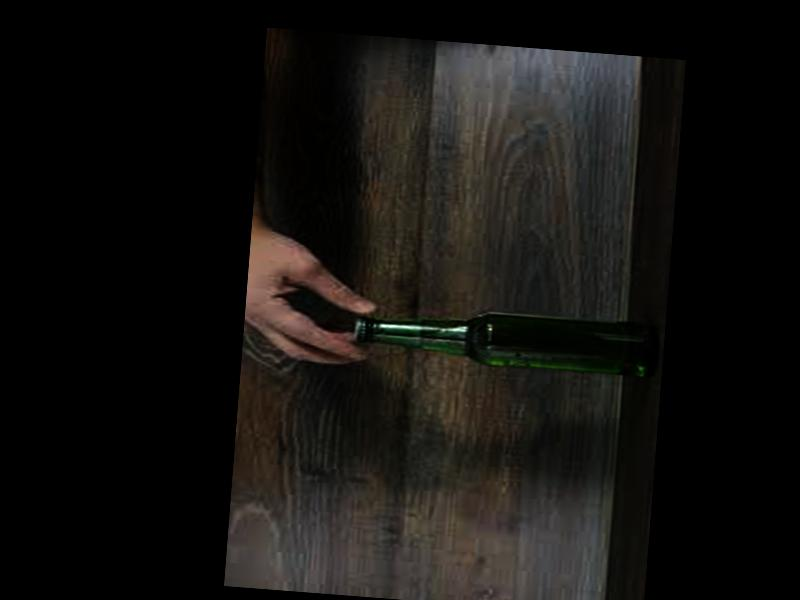Beer: (350, 300, 658, 377)
